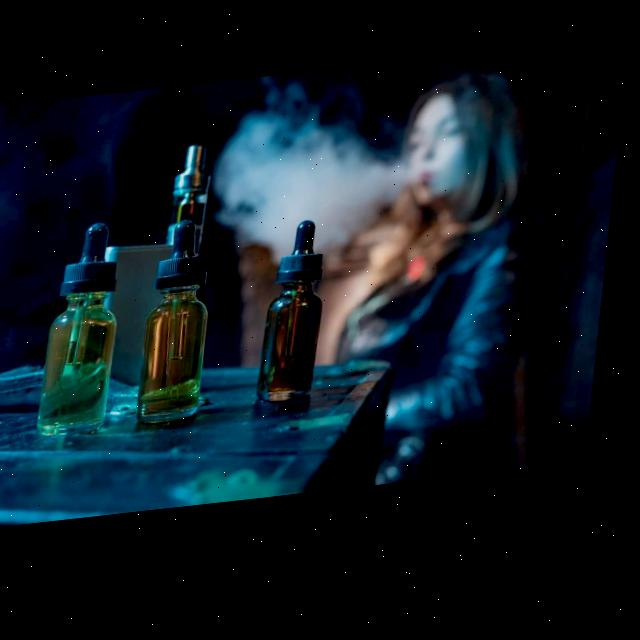vape: (101, 148, 219, 390)
